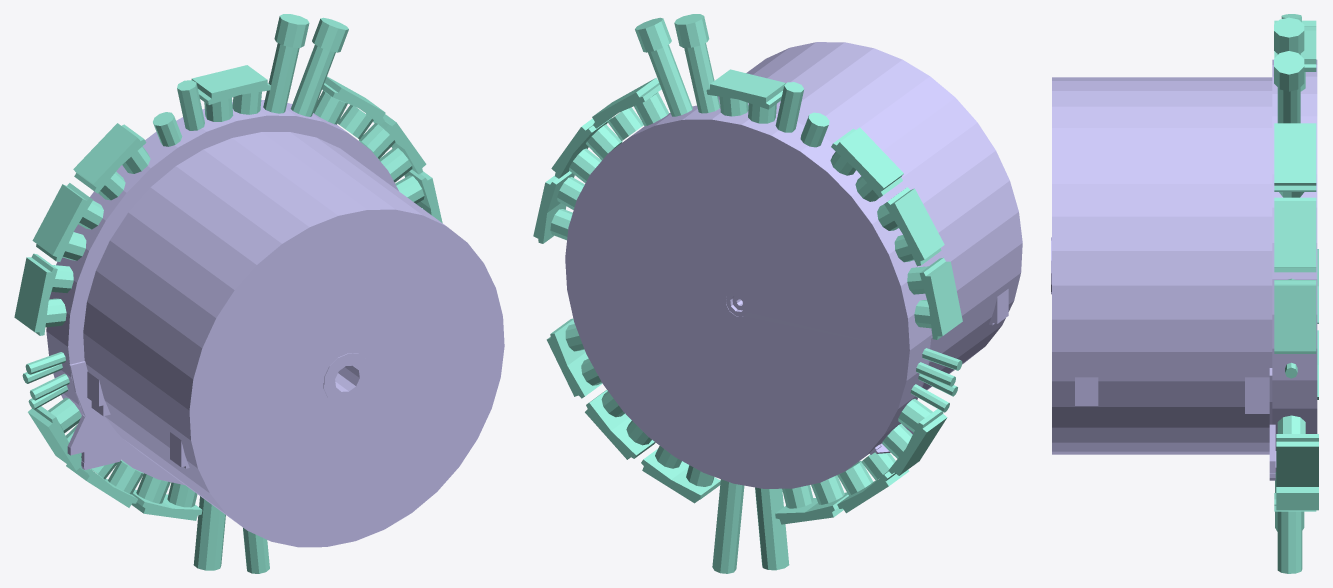
Rendered from Lar-EMEC-SideC-cut1.glb.
The picture shows the model from 3 angles, left to right: view 1: azimuth 30°, elevation 25°; view 2: azimuth 150°, elevation 25°; view 3: azimuth 270°, elevation 25°; orthographic projection. The views are drawn at different scales.
Visible parts, largest first — view 1: null; view 2: null; view 3: null.
Boxes of the visible parts, x1,y1,x2,y2 form: null: (14, 14, 504, 573); null: (533, 14, 1022, 573); null: (1051, 14, 1318, 573).
Size of the model in its own units: 5.9 by 7.47 by 3.21.
